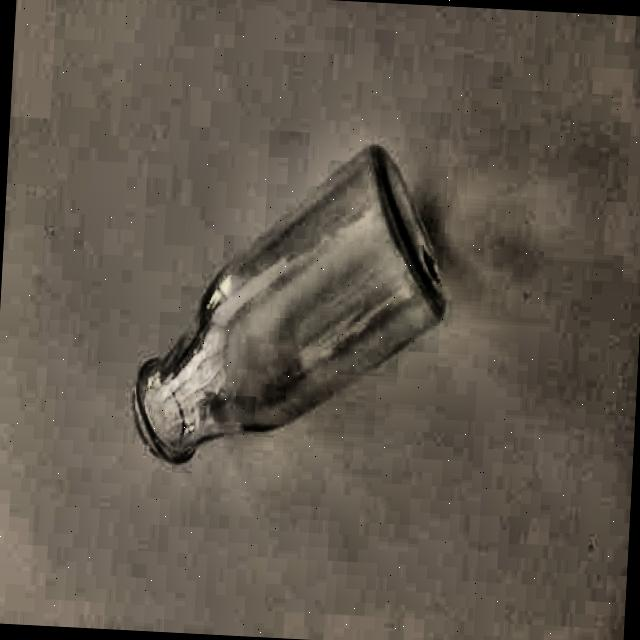glass: (128, 132, 460, 482)
